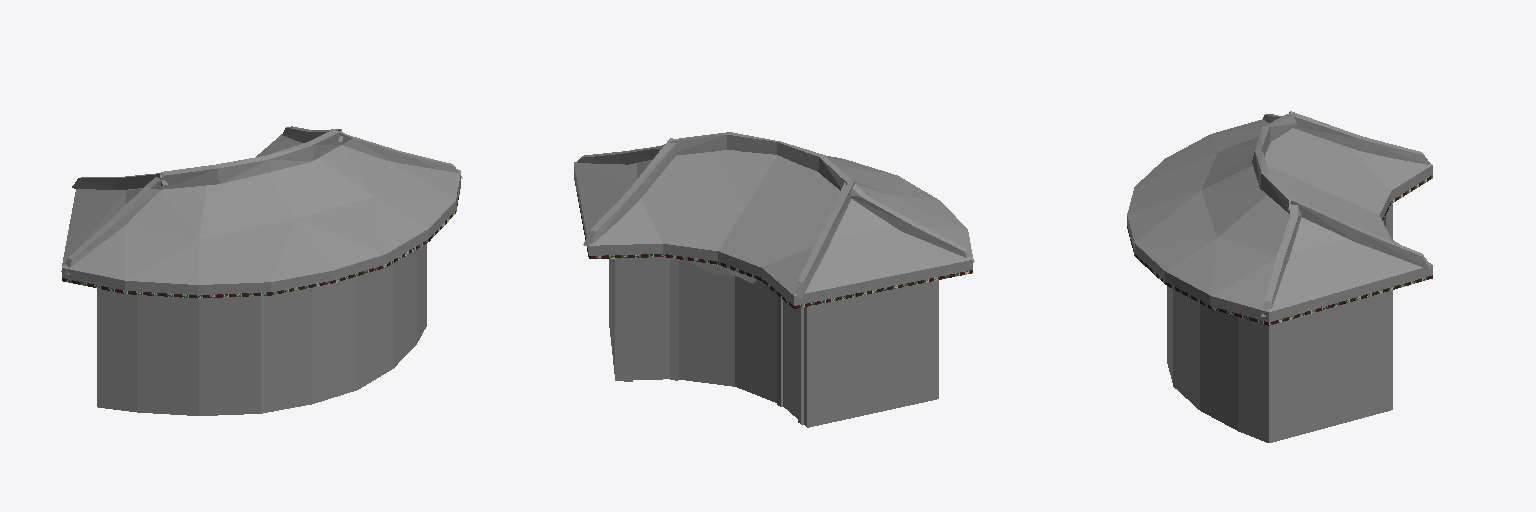
The picture shows the model from 3 angles: view 1: azimuth 30°, elevation 25°; view 2: azimuth 150°, elevation 25°; view 3: azimuth 270°, elevation 25°; orthographic projection.
Parts seen in each view (by area): view 1: X_23_W_005; view 2: X_23_W_005; view 3: X_23_W_005.
Part boxes in pixels (x1,y1,x2,y2): X_23_W_005: (61,126,462,415); X_23_W_005: (574,132,974,427); X_23_W_005: (1127,111,1432,442).
Bounding box in the file's own units: 7.62 × 3.9 × 5.05.
4 materials, 1 textured.